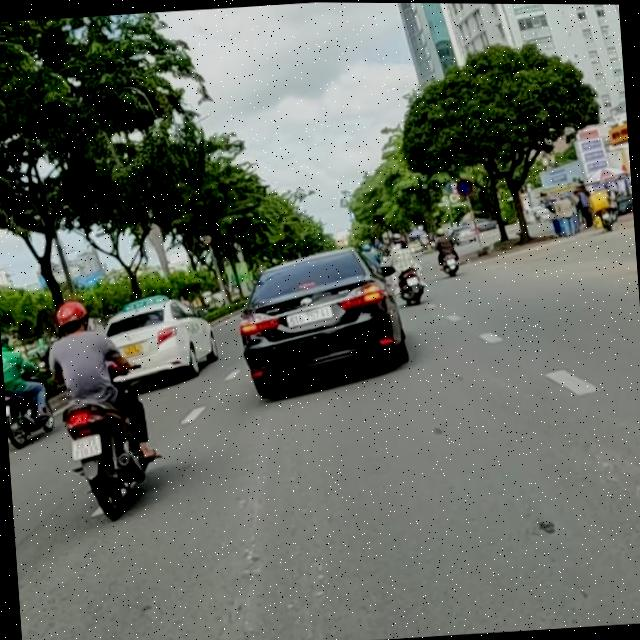car: (234, 241, 408, 391), (96, 295, 222, 385)
motorcycle: (56, 392, 150, 518), (396, 263, 428, 312), (436, 248, 466, 280)
plate: (279, 304, 339, 329), (66, 430, 104, 461), (120, 340, 148, 357)
